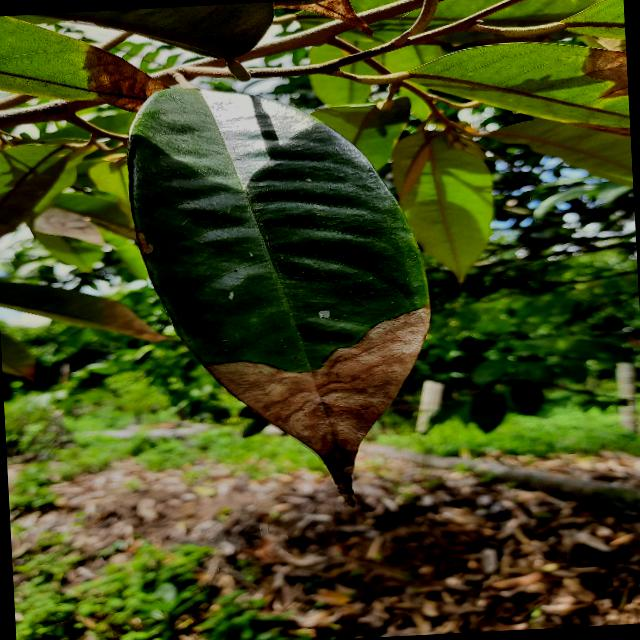Leaf Blight: (112, 63, 448, 505)
